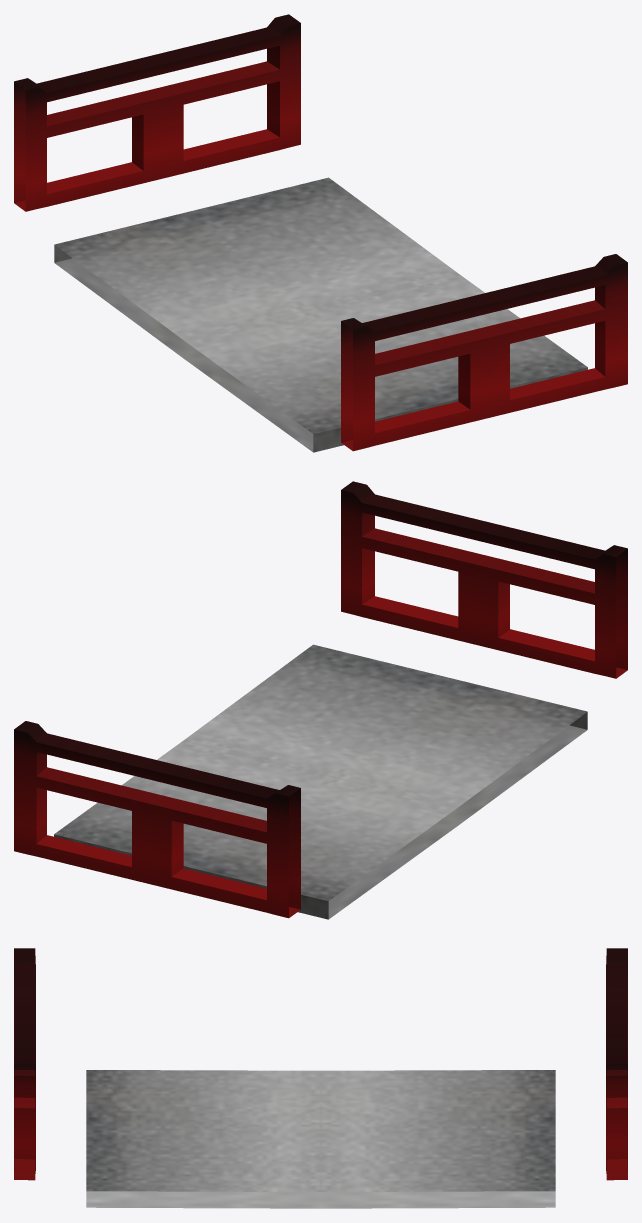
File: bridgemiddle.fbx
The picture shows the model from 3 angles, top to bottom: view 1: azimuth 30°, elevation 25°; view 2: azimuth 150°, elevation 25°; view 3: azimuth 270°, elevation 25°; orthographic projection. The views are drawn at different scales.
Visible parts, largest first — view 1: Cube.002; view 2: Cube.002; view 3: Cube.002.
Boxes of the visible parts, bbox=[...] form: Cube.002: bbox=[14, 14, 627, 452]; Cube.002: bbox=[14, 481, 627, 919]; Cube.002: bbox=[14, 948, 627, 1208].
Size of the model in its own units: 510 by 272 by 1088.
1 material, 1 textured.
